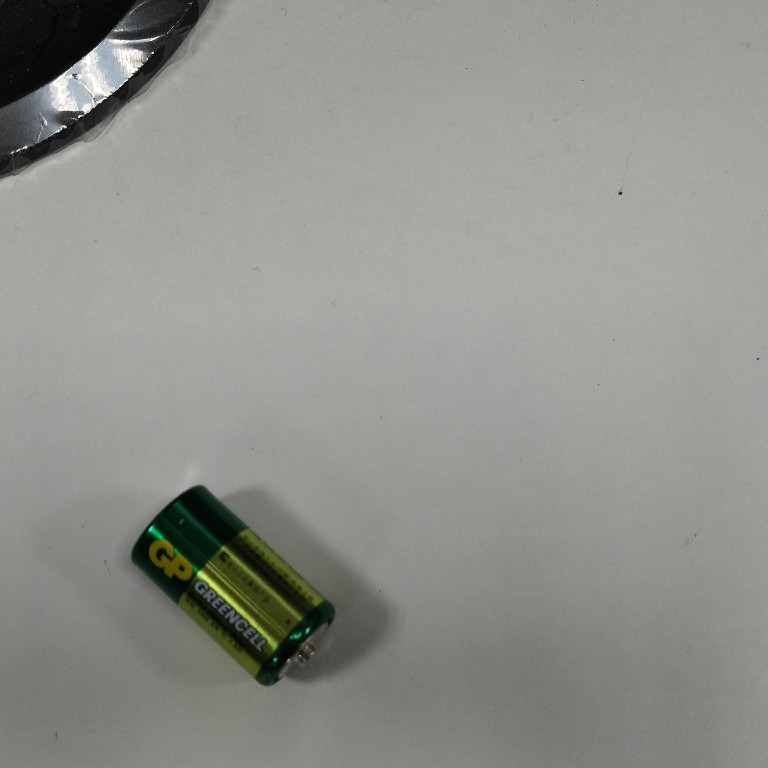charge: (128, 478, 348, 692)
